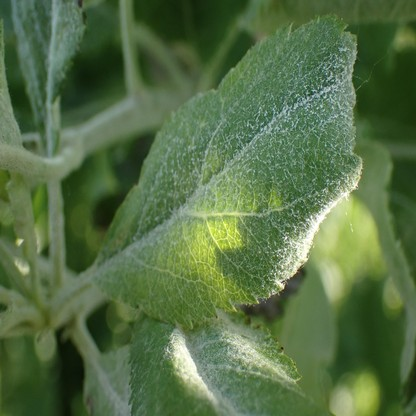powder: (98, 12, 363, 332), (130, 312, 331, 416), (11, 1, 88, 118), (0, 13, 23, 145)
